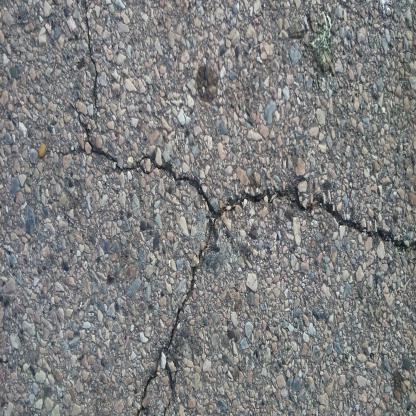Cracks: (78, 0, 416, 259), (136, 197, 225, 416)
